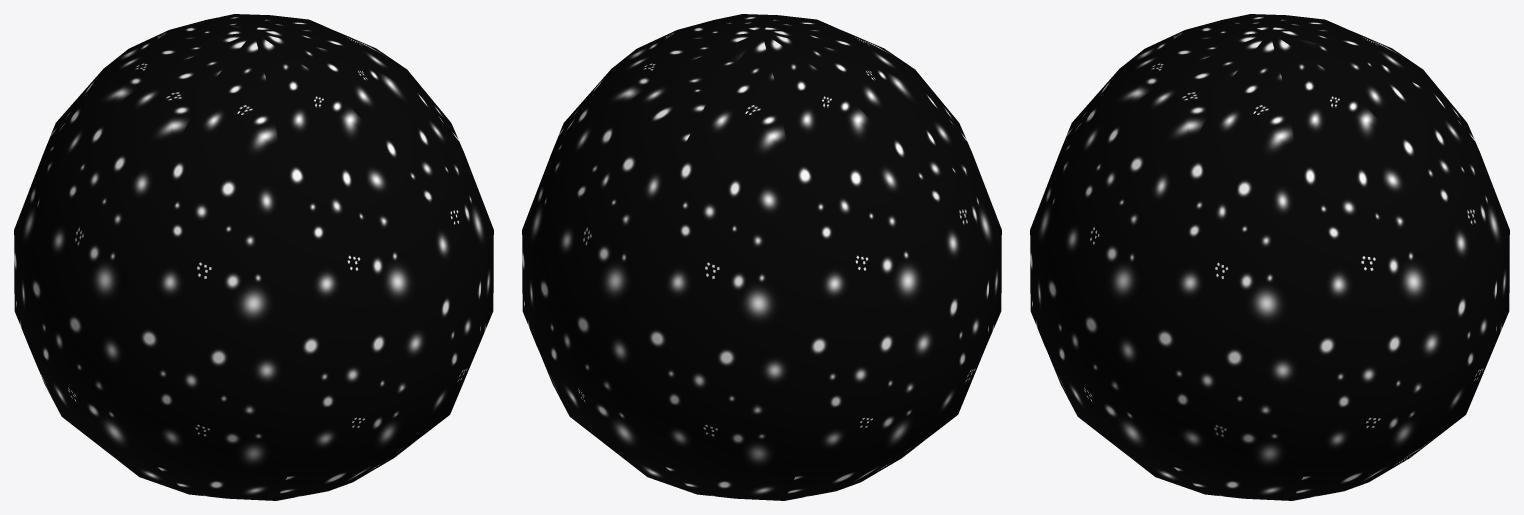
Rendered from sphereTest.FBX.
3 renders of one model, left to right at view 1: azimuth 30°, elevation 25°; view 2: azimuth 150°, elevation 25°; view 3: azimuth 270°, elevation 25°, orthographic.
Visible parts, largest first — view 1: Sphere001; view 2: Sphere001; view 3: Sphere001.
Boxes of the visible parts, x1,y1,x2,y2 form: Sphere001: [14, 14, 493, 500]; Sphere001: [522, 14, 1001, 500]; Sphere001: [1030, 14, 1509, 500].
Bounding box in the file's own units: 13.72 × 13.92 × 14.88.
1 material, 1 textured.
